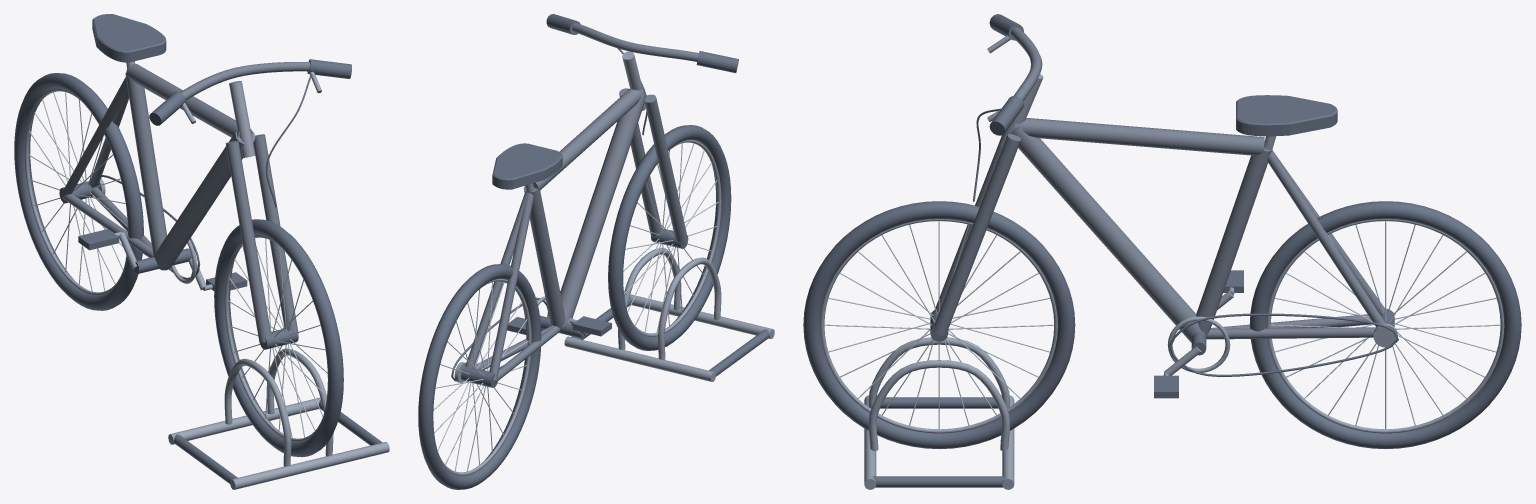
Rendered from 自行车＋停放架-lite.glb.
The picture shows the model from 3 angles, left to right: view 1: azimuth 30°, elevation 25°; view 2: azimuth 150°, elevation 25°; view 3: azimuth 270°, elevation 25°; orthographic projection. The views are drawn at different scales.
Parts seen in each view (by area): view 1: bicycle-rack-dark, bicycle-rack-frame, bicycle-rack-accent, bicycle-rack-light; view 2: bicycle-rack-dark, bicycle-rack-frame, bicycle-rack-accent, bicycle-rack-light; view 3: bicycle-rack-dark, bicycle-rack-frame, bicycle-rack-accent, bicycle-rack-light.
Part boxes in pixels (x1,y1,x2,y2): bicycle-rack-dark: (14,14,382,483); bicycle-rack-frame: (61,62,309,342); bicycle-rack-accent: (24,61,389,489); bicycle-rack-light: (27,92,327,437); bicycle-rack-dark: (418,14,769,489); bicycle-rack-frame: (465,23,698,383); bicycle-rack-accent: (438,51,774,475); bicycle-rack-light: (433,143,718,471); bicycle-rack-dark: (803,14,1521,487); bicycle-rack-frame: (933,27,1385,342); bicycle-rack-accent: (820,35,1504,489); bicycle-rack-light: (824,221,1500,429).
Bounding box in the file's own units: 0.6385 × 1.06 × 1.77.
